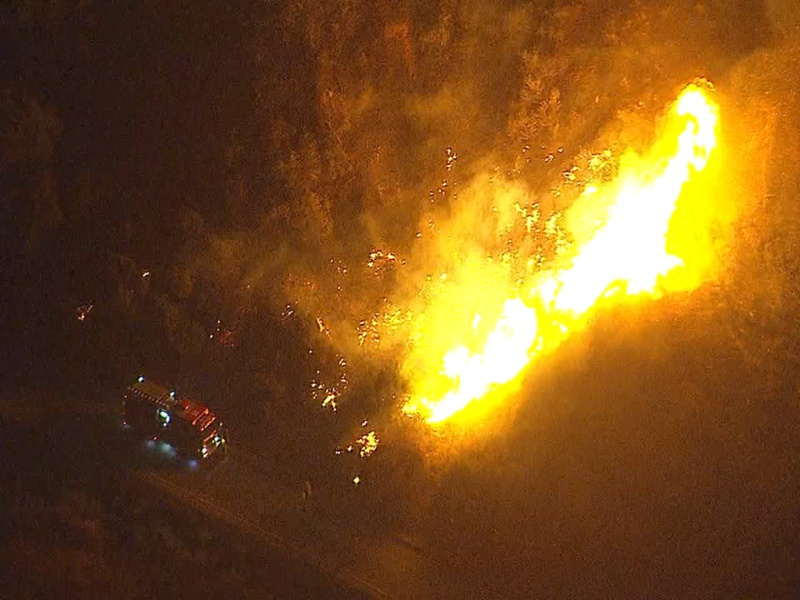fire: (540, 171, 694, 318), (416, 292, 537, 428), (661, 75, 735, 173)
